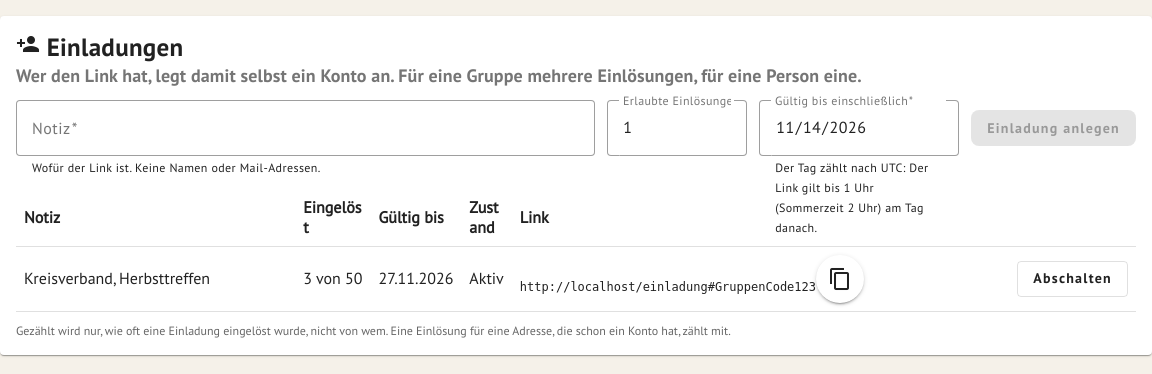
it: EinladungenComponent › schaltet eine Einladung ab
Click the button with test id "schalten": {"x": 1073, "y": 279} [1017,261,1128,297]
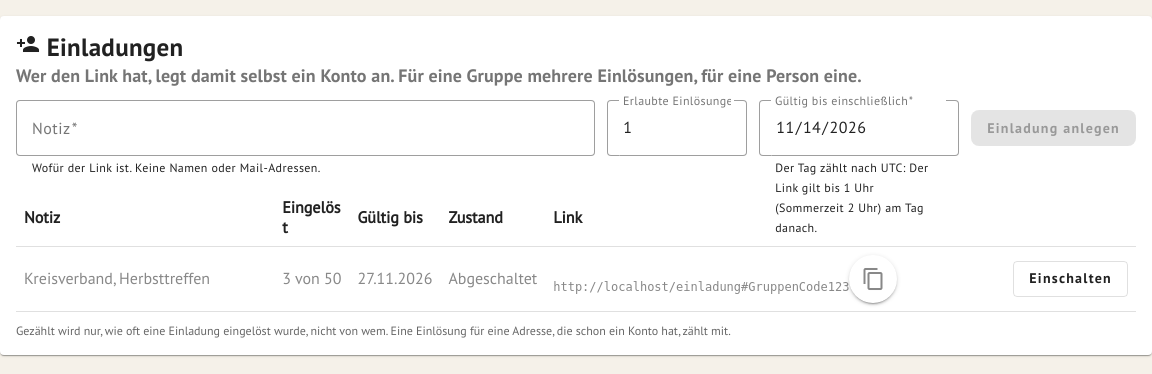
Check: the row with test id "einladung" shows "Abgeschaltet", box [448,270,537,288]
Check: the button with test id "schalten" reads "Einschalten", box [1013,261,1128,297]
